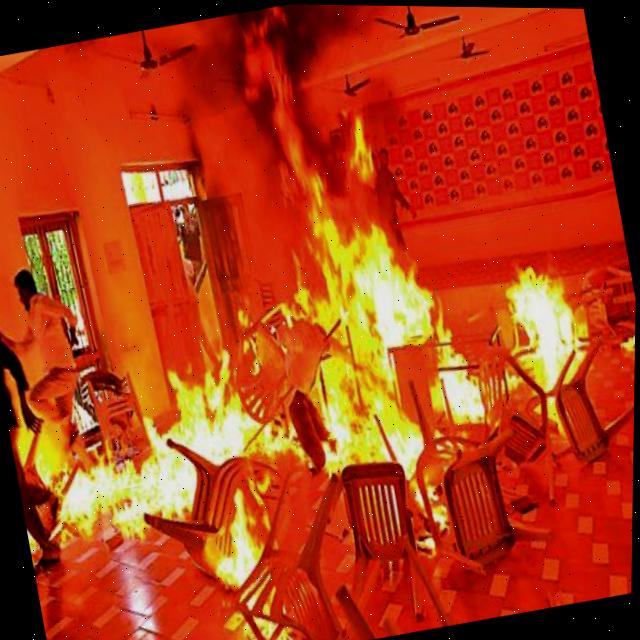fire: (14, 95, 637, 571)
